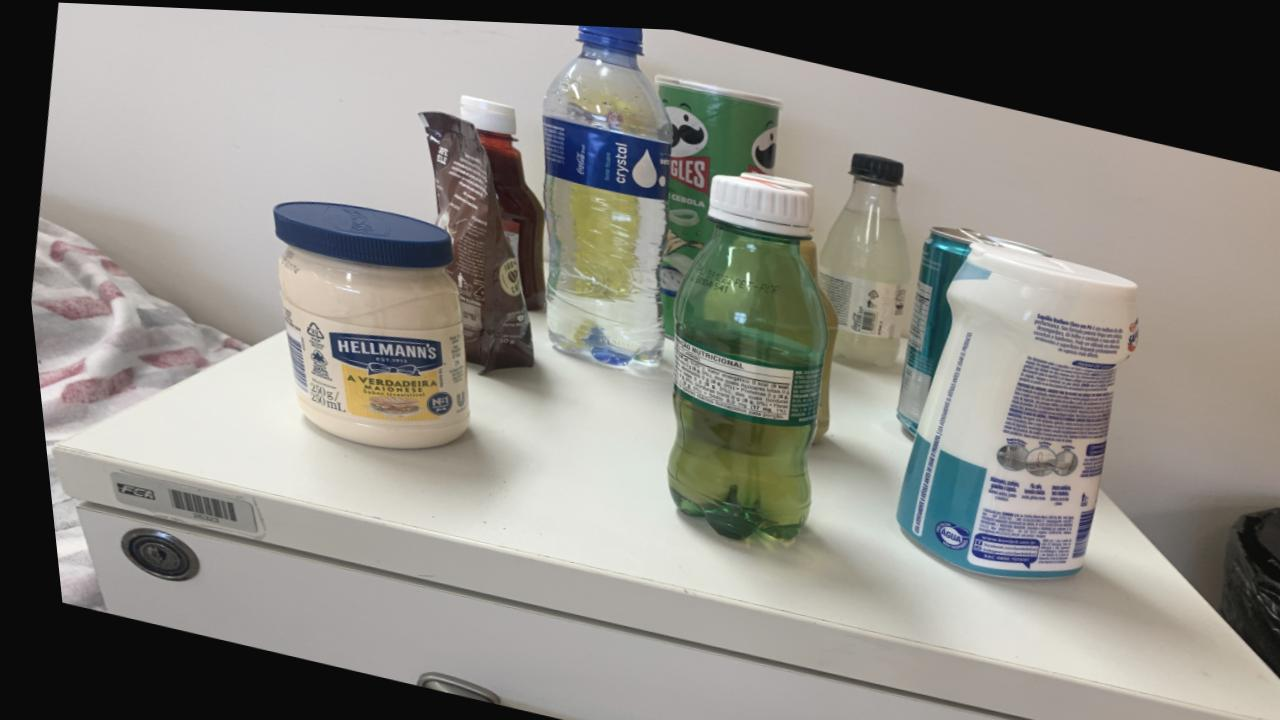Cleaner-Cleanup_Items: (885, 234, 1132, 569), (889, 219, 965, 426)
Coffee-Pantry_Items: (416, 107, 527, 367)
Guarana-Drinks: (656, 169, 821, 533)
Ketchup-Pantry_Items: (457, 90, 540, 306)
Mayonnaise-Pantry_Items: (269, 198, 461, 445)
Mustard-Pantry_Items: (807, 278, 831, 431), (737, 165, 810, 200), (793, 231, 813, 277)
Pringles-Snacks: (652, 68, 779, 330)
Soda-Drinks: (812, 145, 905, 359)
Tea-Drinks: (889, 217, 1045, 423)
Water_Bottle-Drinks: (539, 20, 670, 362), (504, 197, 506, 199)
